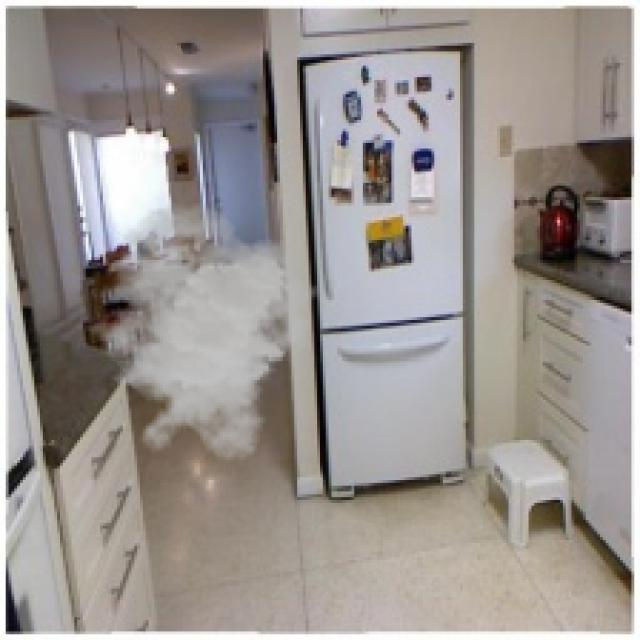smoke: (74, 203, 320, 463)
